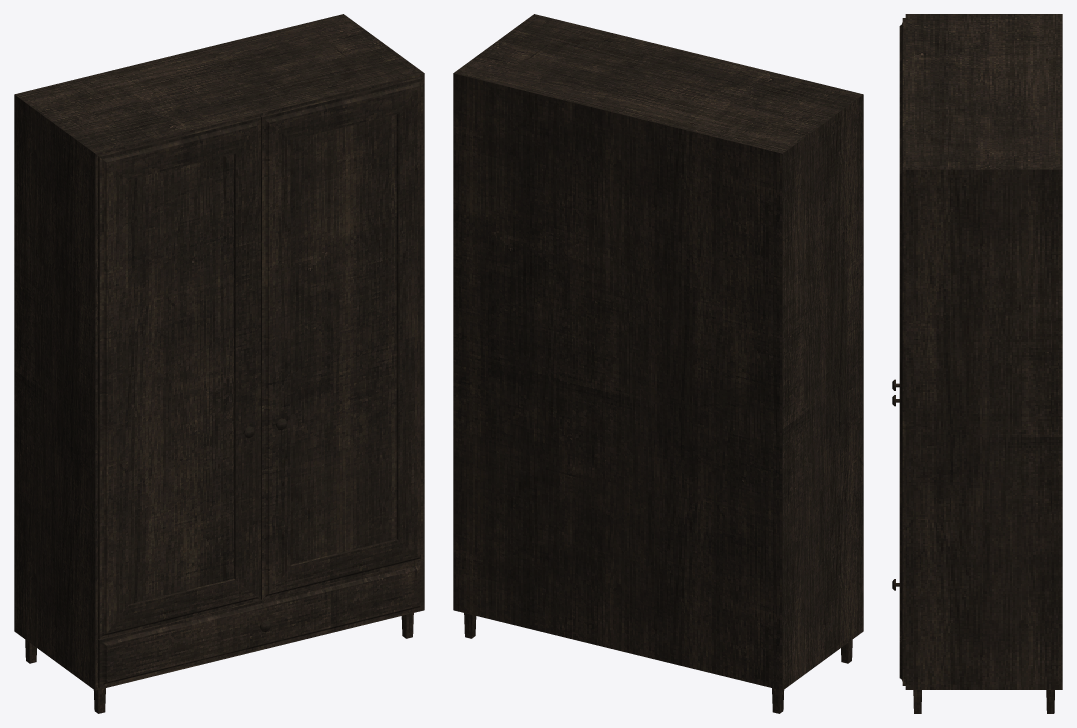
The model's file is wardrobe_mp_1_2.glb.
3 renders of one model, left to right at view 1: azimuth 30°, elevation 25°; view 2: azimuth 150°, elevation 25°; view 3: azimuth 270°, elevation 25°, orthographic. The views are drawn at different scales.
Parts seen in each view (by area): view 1: wardrobe_mp_1_2, wardrobe_mp_1_2_drawer; view 2: wardrobe_mp_1_2; view 3: wardrobe_mp_1_2, wardrobe_mp_1_2_drawer.
Part boxes in pixels (x1,y1,x2,y2): wardrobe_mp_1_2: [14, 14, 424, 713]; wardrobe_mp_1_2_drawer: [98, 561, 423, 688]; wardrobe_mp_1_2: [453, 14, 863, 713]; wardrobe_mp_1_2: [892, 14, 1062, 713]; wardrobe_mp_1_2_drawer: [892, 579, 905, 685].
Size of the model in its own units: 1.22 by 2 by 0.5645.
Materials: 1 (1 with a texture image).
